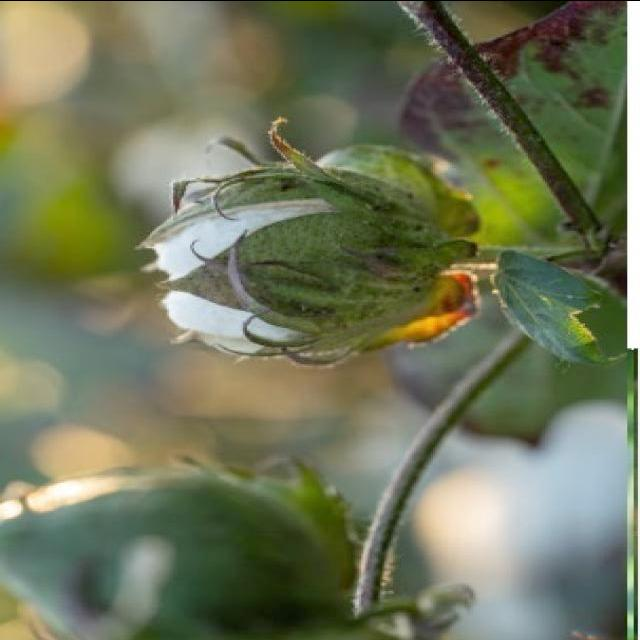Split Cotton Boll: (154, 147, 492, 361)
